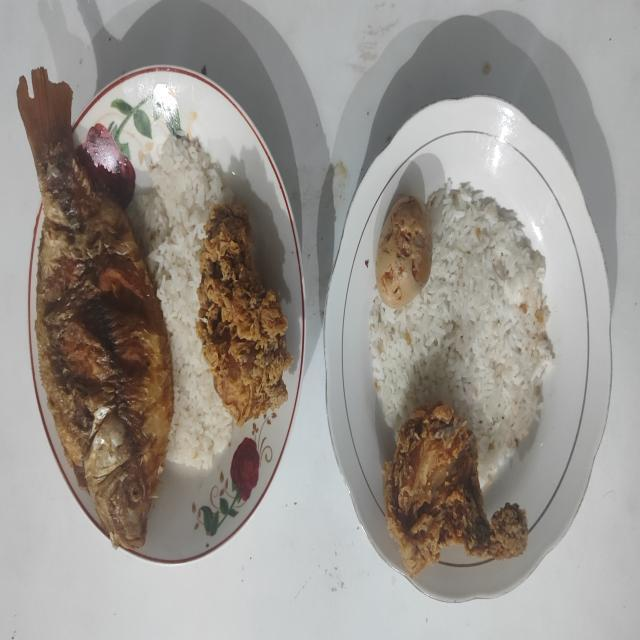ikan_mujair: (18, 68, 174, 550)
nasi_putih: (368, 180, 556, 488), (130, 137, 237, 470)
